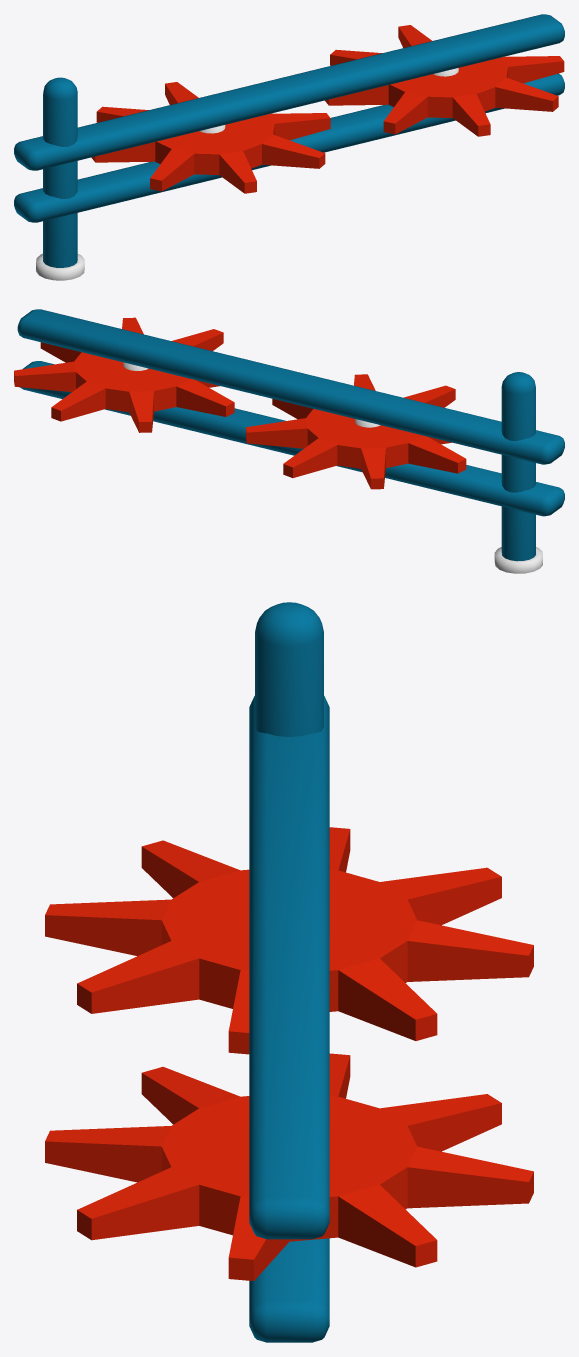
Rendered from Obs_14.fbx.
3 views of the same model, one above another, from view 1: azimuth 30°, elevation 25°; view 2: azimuth 150°, elevation 25°; view 3: azimuth 270°, elevation 25° (orthographic). The views are drawn at different scales.
Parts seen in each view (by area): view 1: Obs_14; view 2: Obs_14; view 3: Obs_14.
Boxes of the visible parts, bbox=[...] form: Obs_14: bbox=[14, 14, 564, 280]; Obs_14: bbox=[14, 309, 564, 573]; Obs_14: bbox=[45, 602, 533, 1342].
Bounding box in the file's own units: 2.63 × 0.8879 × 1.04.
